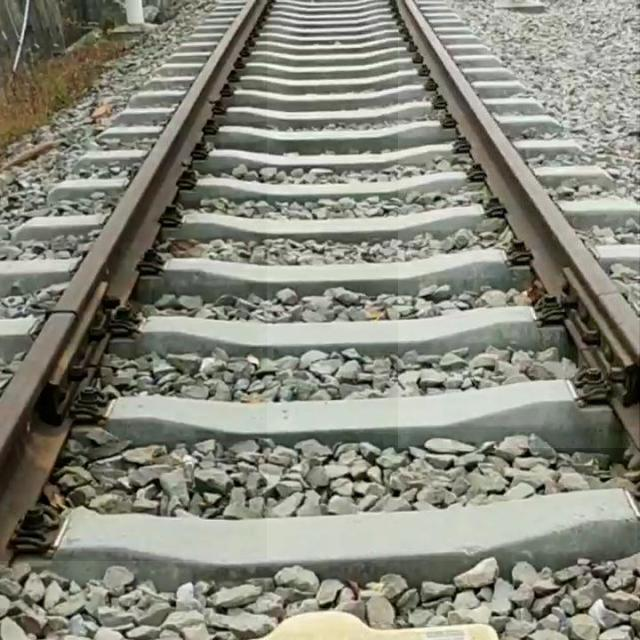rail: (1, 1, 268, 562), (400, 1, 640, 448)
